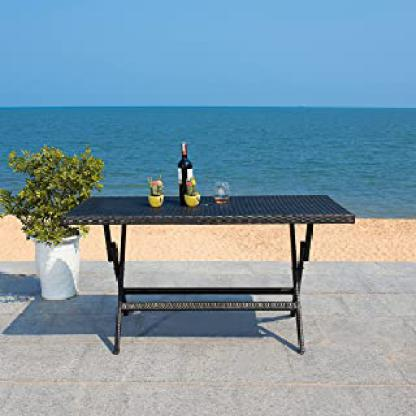table: (50, 192, 358, 359)
